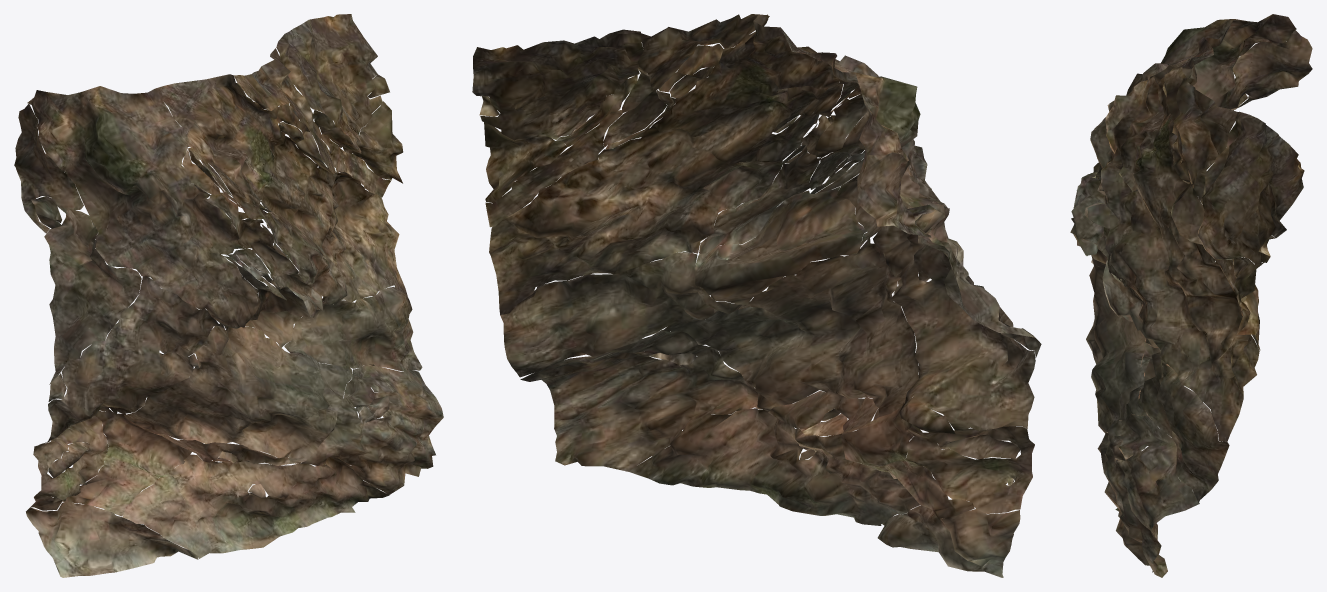
The model's file is mountainside.glb.
3 renders of one model, left to right at view 1: azimuth 30°, elevation 25°; view 2: azimuth 150°, elevation 25°; view 3: azimuth 270°, elevation 25°, orthographic. The views are drawn at different scales.
Visible parts, largest first — view 1: mountainside; view 2: mountainside; view 3: mountainside.
Boxes of the visible parts, x1=… form: mountainside: x1=14, y1=14, x2=443, y2=577; mountainside: x1=472, y1=14, x2=1041, y2=577; mountainside: x1=1070, y1=14, x2=1312, y2=577.
Bounding box in the file's own units: 10.2 × 10.52 × 5.28.
1 material, 1 textured.
